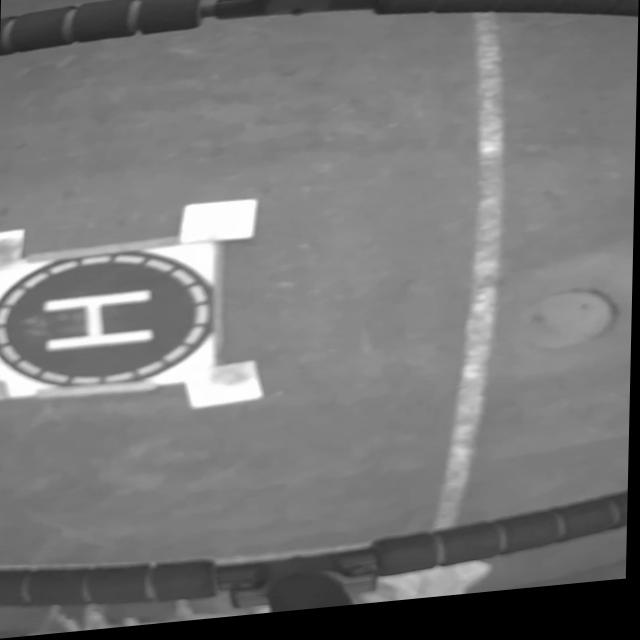Helipad: (44, 293, 155, 352)
